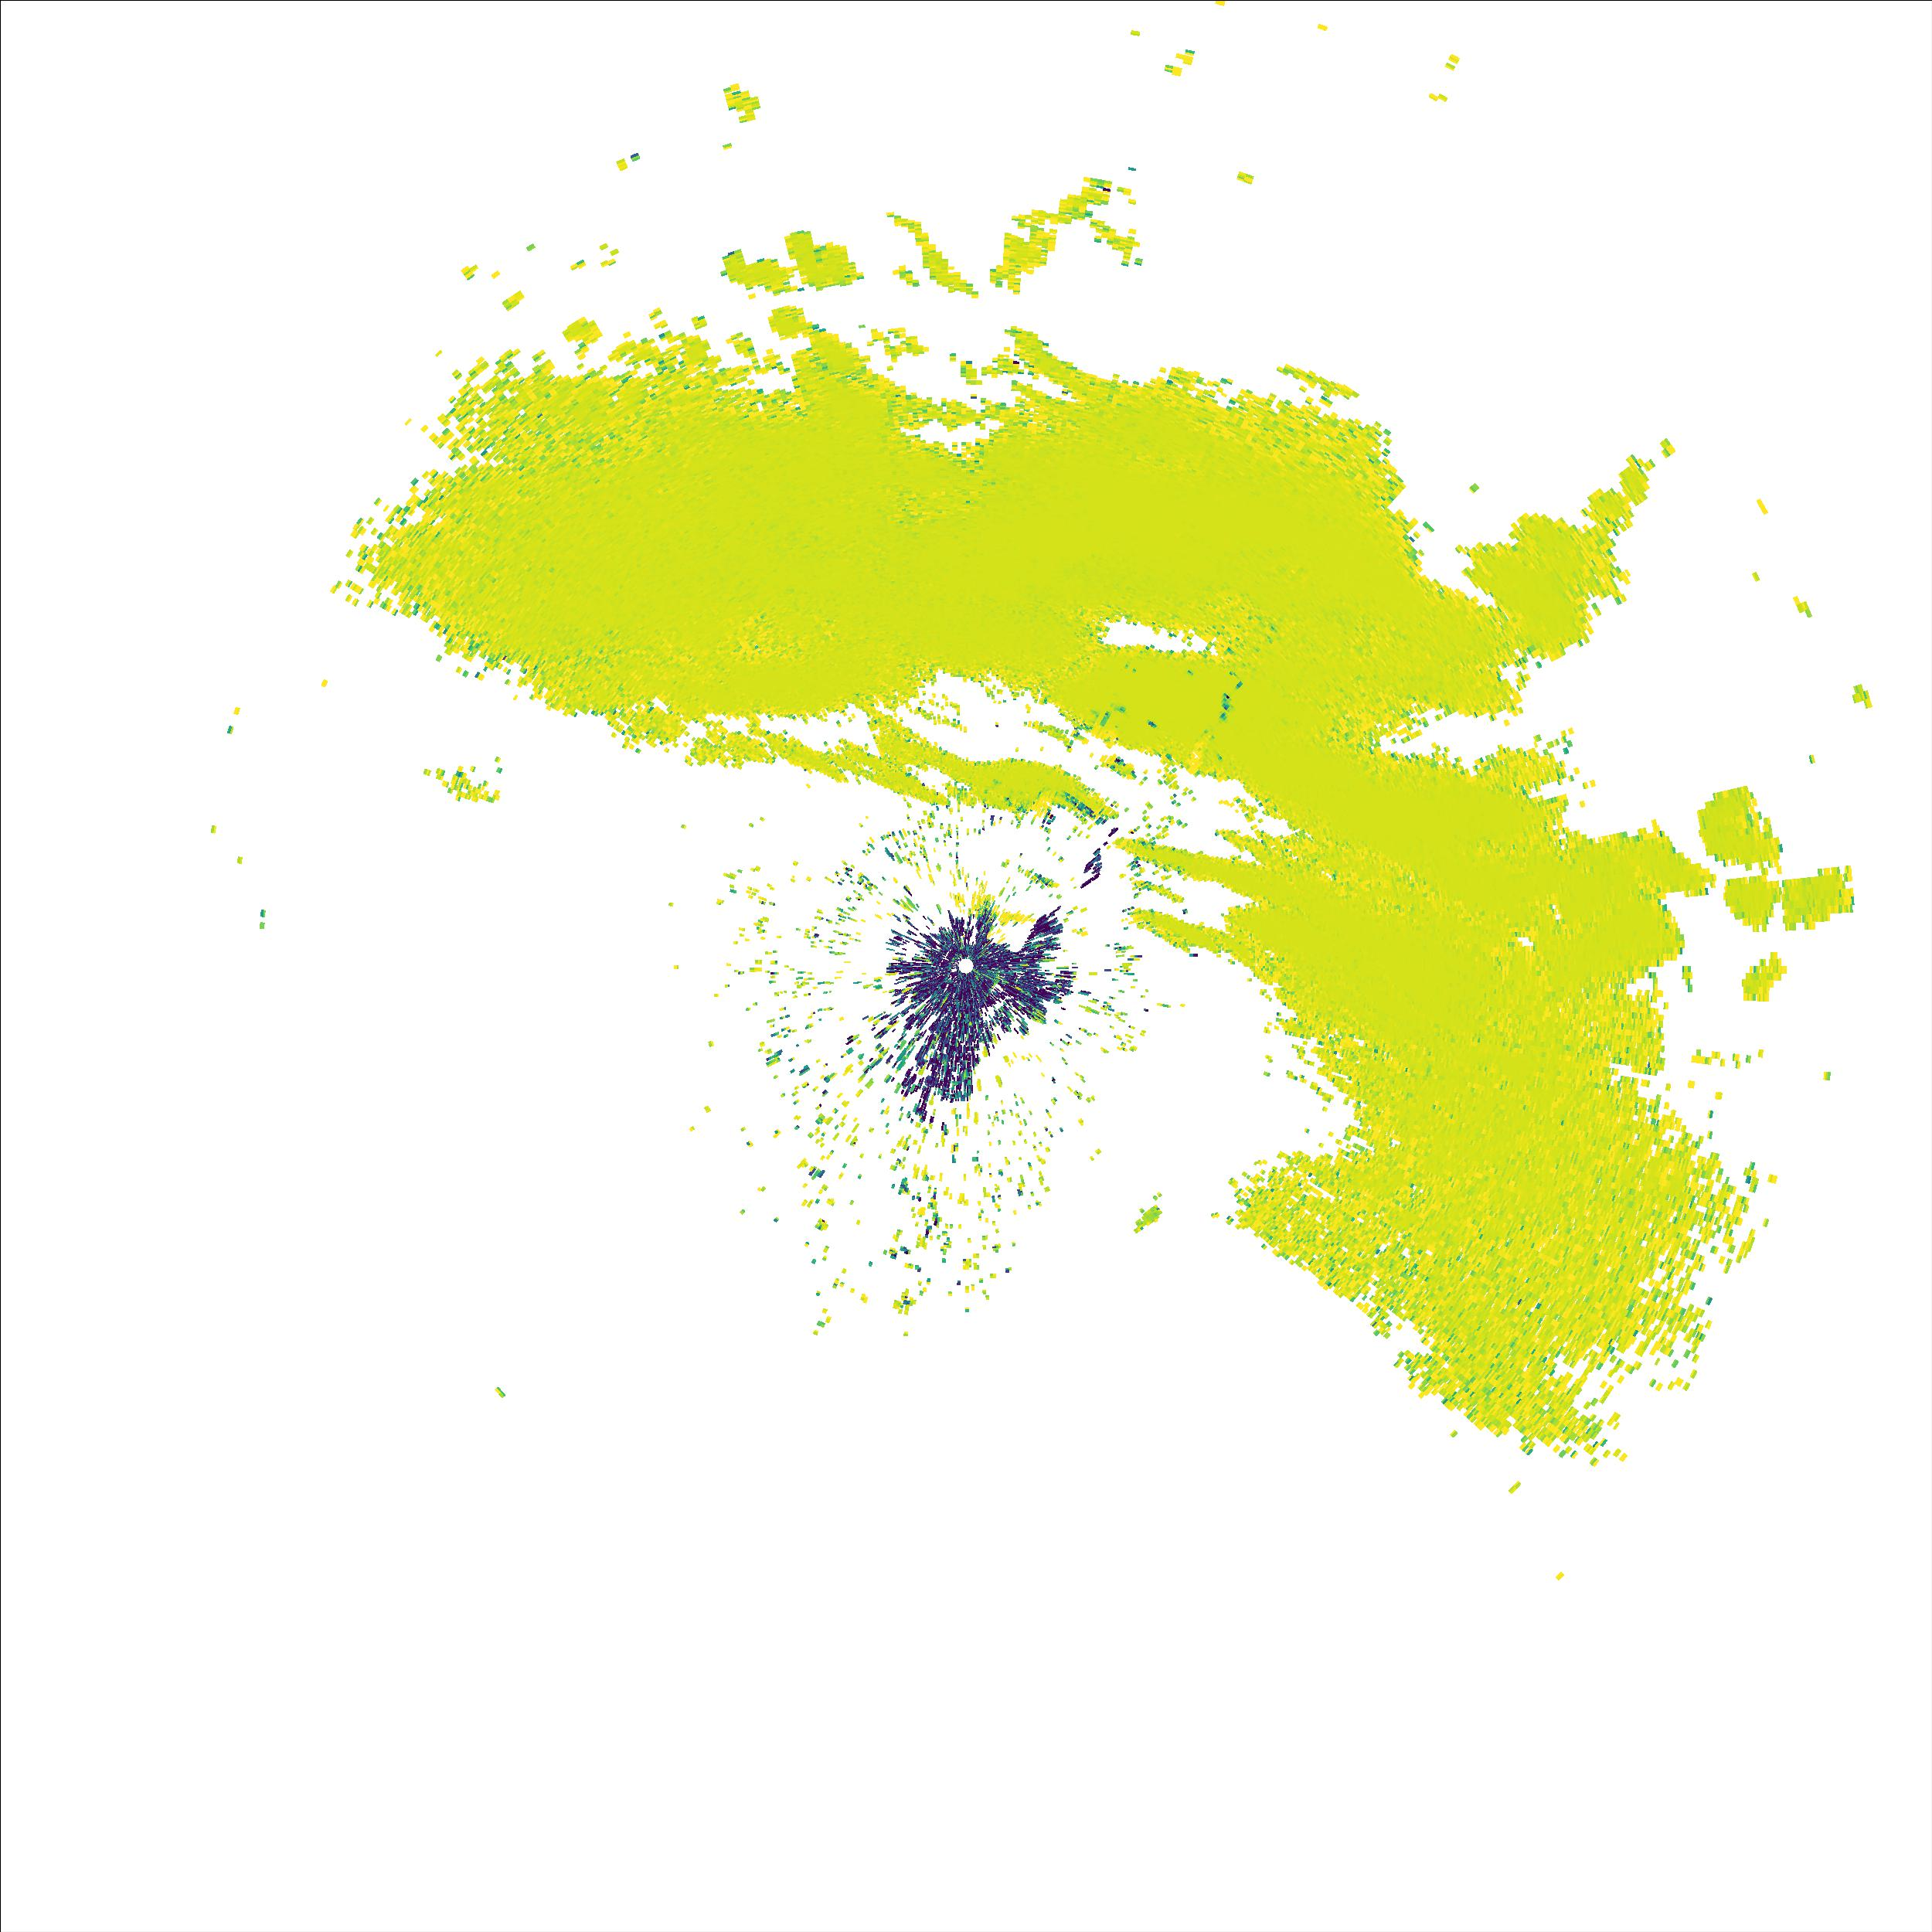fall: (1138, 1205, 1164, 1231)
